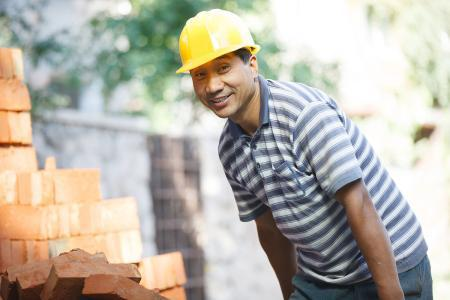helmet: (163, 2, 272, 124)
